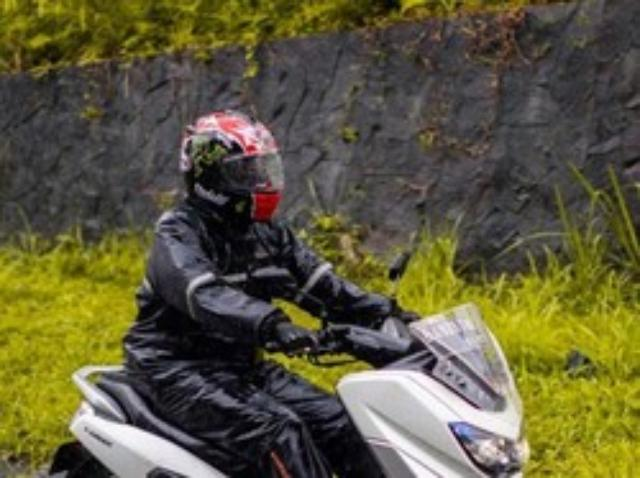helm: (178, 107, 289, 231)
motor: (63, 297, 527, 478)
